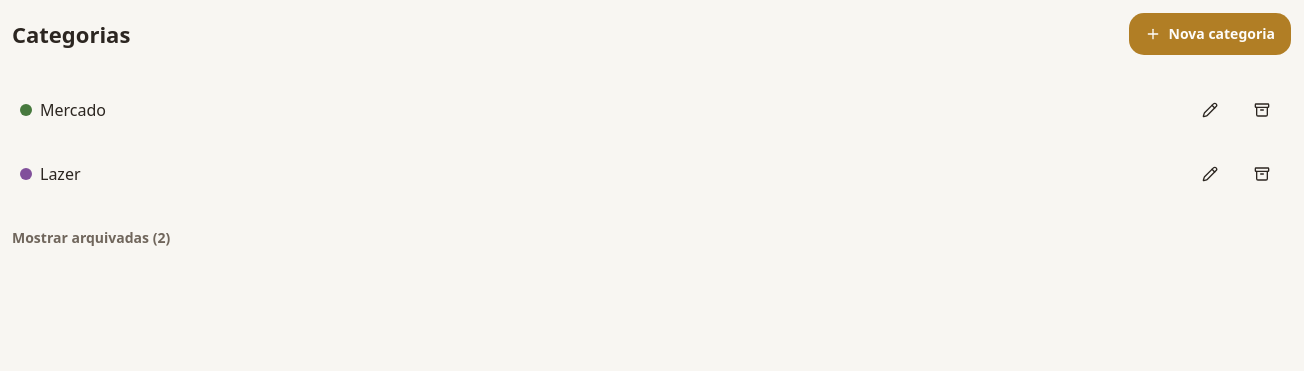
CategoryList (Screen 5, E4) › parcial: arquivadas atrás do controle fechado por padrão, esmaecidas e ao final (E4/partial, CAT-04 ordering)
This screenshot has width=1304, height=371.
Expected: the text "Assinaturas" is not shown
What coordinates should you click on to do the following:
click the button "Mostrar arquivadas (2)"
I would click on:
 (91, 238)
Its box is [12,228,170,248].
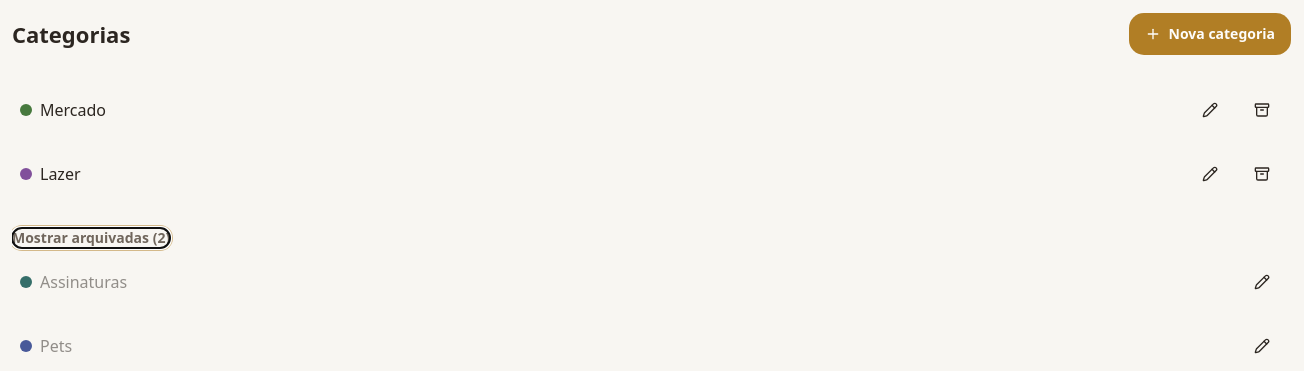
Result: the button "Mostrar arquivadas (2)" is expanded at [12,228,170,248]
